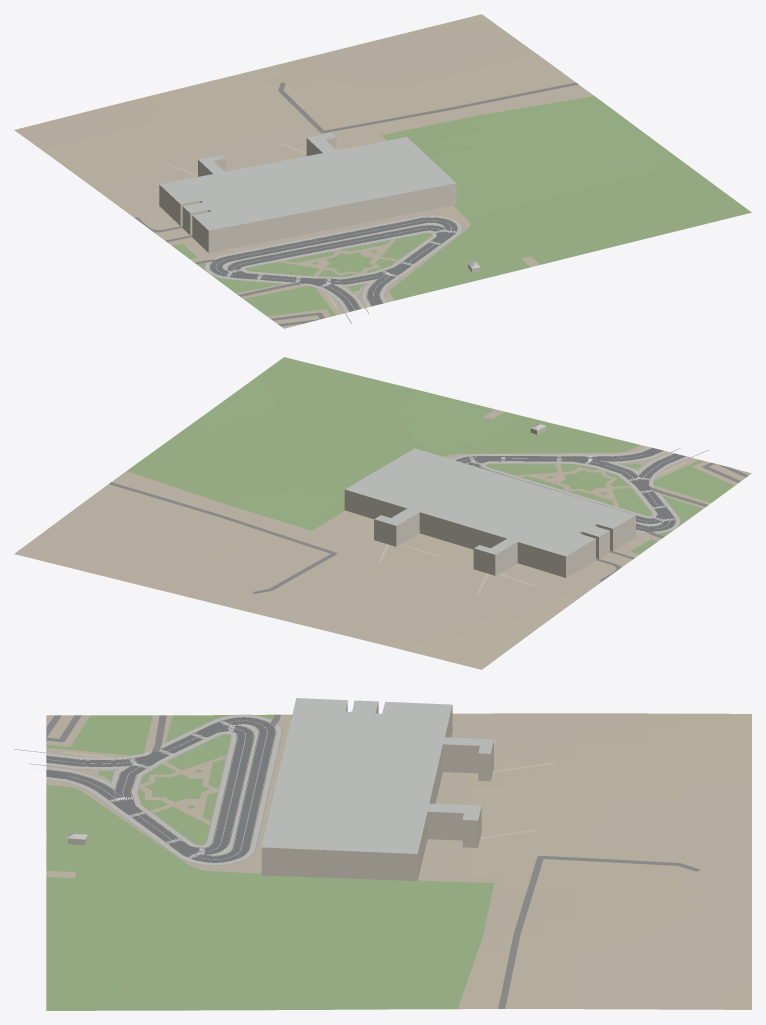
The model's file is bolak_3_-12.glb.
3 views of the same model, one above another, from view 1: azimuth 30°, elevation 25°; view 2: azimuth 150°, elevation 25°; view 3: azimuth 270°, elevation 25° (orthographic). The views are drawn at different scales.
Visible parts, largest first — view 1: Yer_Tuproq-col, Yer_Maysa, Tom_Shifer, Devor_Suvoq-col, Yol_Asfalt-col, Trotuar, Yol_Mahalla-col, Ariq, Yol_Chiziq; view 2: Yer_Tuproq-col, Yer_Maysa, Tom_Shifer, Devor_Suvoq-col, Yol_Asfalt-col, Trotuar, Yol_Mahalla-col, Ariq, Yol_Chiziq; view 3: Yer_Tuproq-col, Yer_Maysa, Tom_Shifer, Yol_Asfalt-col, Devor_Suvoq-col, Trotuar, Yol_Mahalla-col, Yol_Chiziq, Ariq.
Boxes of the visible parts, bbox=[...] form: Yer_Tuproq-col: bbox=[14, 14, 593, 328]; Yer_Maysa: bbox=[172, 96, 751, 316]; Tom_Shifer: bbox=[159, 133, 480, 268]; Devor_Suvoq-col: bbox=[159, 137, 479, 272]; Yol_Asfalt-col: bbox=[209, 217, 457, 311]; Trotuar: bbox=[205, 215, 461, 312]; Yol_Mahalla-col: bbox=[134, 82, 578, 326]; Ariq: bbox=[204, 215, 462, 323]; Yol_Chiziq: bbox=[209, 217, 457, 314]; Yer_Tuproq-col: bbox=[14, 409, 751, 669]; Yer_Maysa: bbox=[127, 357, 734, 554]; Tom_Shifer: bbox=[345, 423, 635, 556]; Devor_Suvoq-col: bbox=[344, 426, 635, 577]; Yol_Asfalt-col: bbox=[455, 448, 685, 531]; Trotuar: bbox=[451, 447, 689, 533]; Yol_Mahalla-col: bbox=[109, 462, 748, 593]; Ariq: bbox=[451, 448, 708, 533]; Yol_Chiziq: bbox=[460, 446, 688, 531]; Yer_Tuproq-col: bbox=[46, 713, 751, 1010]; Yer_Maysa: bbox=[46, 714, 494, 1010]; Tom_Shifer: bbox=[67, 698, 493, 853]; Yol_Asfalt-col: bbox=[46, 717, 276, 862]; Devor_Suvoq-col: bbox=[68, 702, 493, 880]; Trotuar: bbox=[46, 714, 281, 865]; Yol_Mahalla-col: bbox=[46, 714, 699, 1008]; Yol_Chiziq: bbox=[25, 717, 275, 862]; Ariq: bbox=[14, 714, 282, 865].
Size of what is drawn, in the model's own units: 401 by 18.99 by 418.
